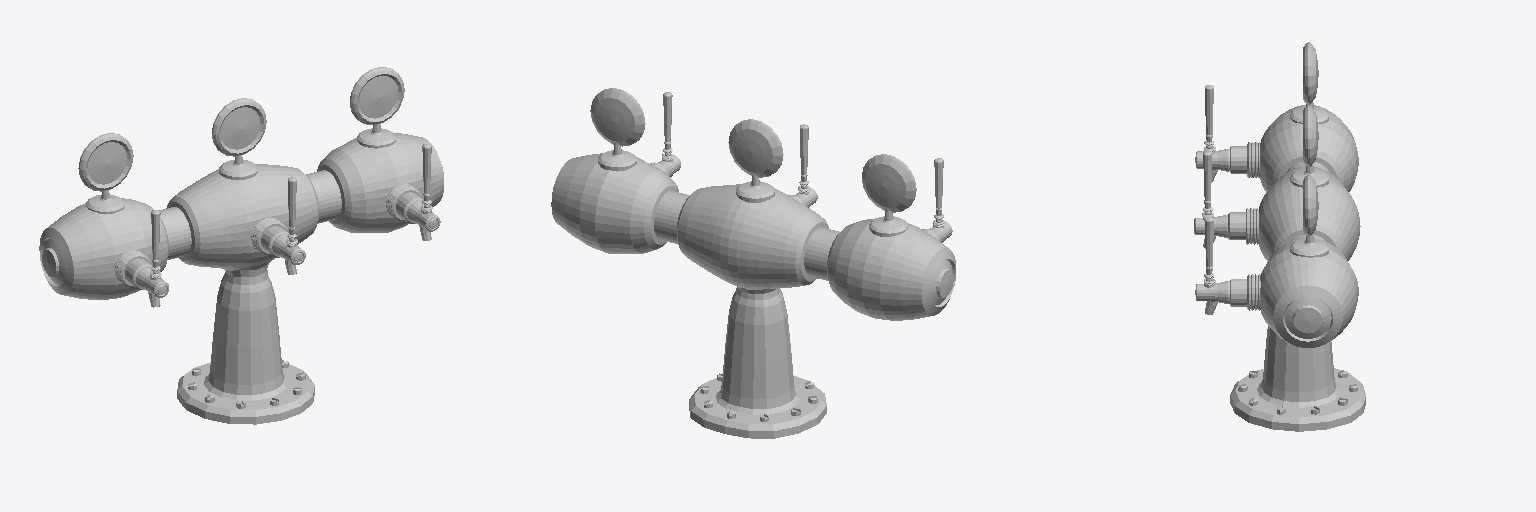
Rendered from beertap.obj.
3 views of the same model, side by side, from view 1: azimuth 30°, elevation 25°; view 2: azimuth 150°, elevation 25°; view 3: azimuth 270°, elevation 25° (orthographic).
Visible parts, largest first — view 1: model_0; view 2: model_0; view 3: model_0.
Part boxes in pixels (x1,y1,x2,y2): model_0: (39, 67, 443, 424); model_0: (551, 88, 955, 438); model_0: (1194, 42, 1365, 431).
Bounding box in the file's own units: 116 × 83.95 × 44.83.